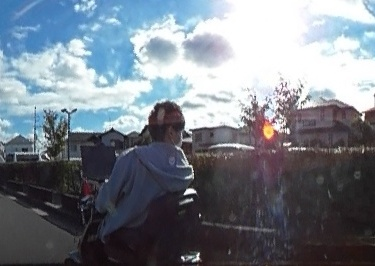person: (92, 98, 191, 239)
